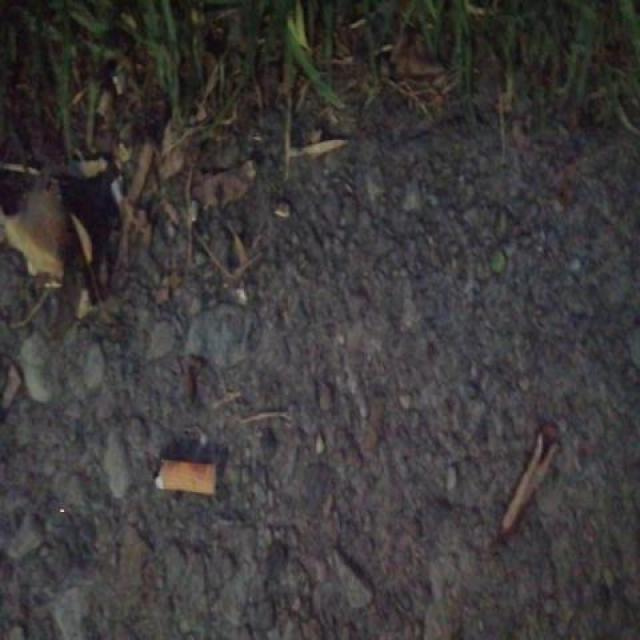non-organic waste: (150, 450, 222, 502)
